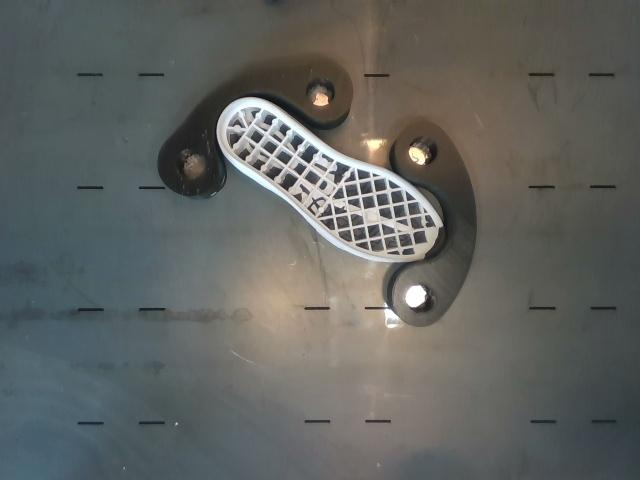shoes: (217, 99, 445, 260)
